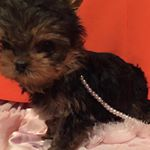puppy: (1, 1, 92, 103)
